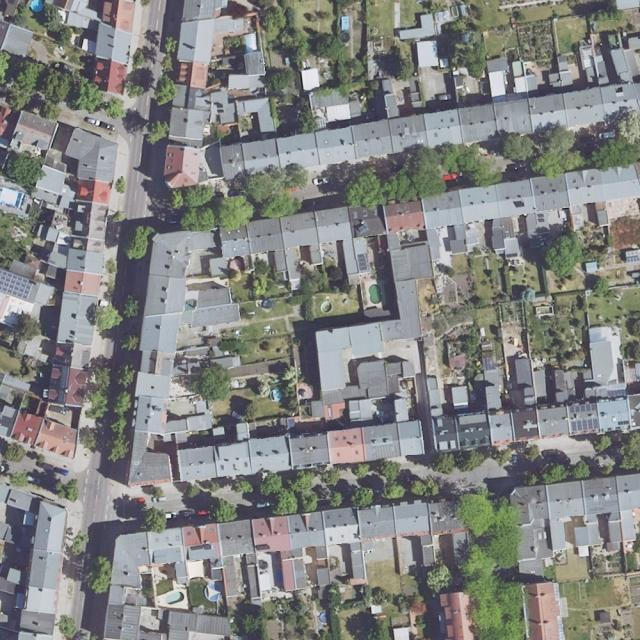PV: (0, 269, 35, 300), (571, 418, 600, 432), (569, 402, 597, 414)
ST: (357, 253, 368, 271), (357, 224, 370, 235), (627, 255, 640, 263), (617, 420, 629, 425)
